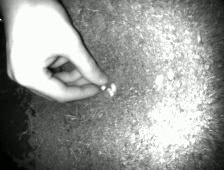corn: (153, 72, 165, 87), (104, 86, 115, 100), (109, 81, 118, 93), (99, 83, 108, 92)
